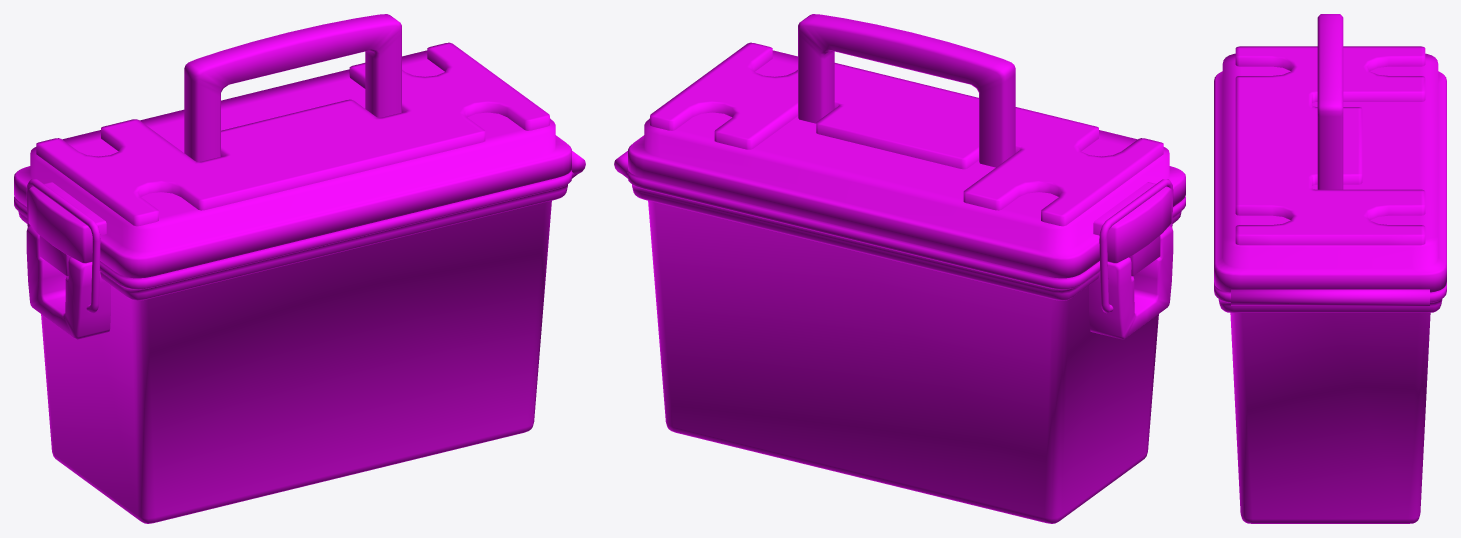
The model's file is greyboxlarge.dae.
The picture shows the model from 3 angles, left to right: view 1: azimuth 30°, elevation 25°; view 2: azimuth 150°, elevation 25°; view 3: azimuth 270°, elevation 25°; orthographic projection. The views are drawn at different scales.
Visible parts, largest first — view 1: Main_LP, Handle_LP, Clasp02_LP, Clasp01_LP, Metal_LP; view 2: Main_LP, Handle_LP, Clasp02_LP, Clasp01_LP, Metal_LP; view 3: Main_LP, Handle_LP, Hinge_LP.
Boxes of the visible parts, box(x1,y1,x2,y2) form: Main_LP: box(14, 42, 571, 523); Handle_LP: box(184, 14, 401, 161); Clasp02_LP: box(26, 226, 110, 339); Clasp01_LP: box(28, 182, 106, 276); Metal_LP: box(26, 179, 100, 313); Main_LP: box(628, 42, 1185, 523); Handle_LP: box(798, 14, 1015, 167); Clasp02_LP: box(1089, 226, 1173, 339); Clasp01_LP: box(1093, 182, 1171, 276); Metal_LP: box(1099, 179, 1173, 313); Main_LP: box(1214, 46, 1446, 523); Handle_LP: box(1317, 14, 1343, 189); Hinge_LP: box(1231, 289, 1429, 305).
Bounding box in the file's own units: 28.59 × 12.78 × 23.17.
